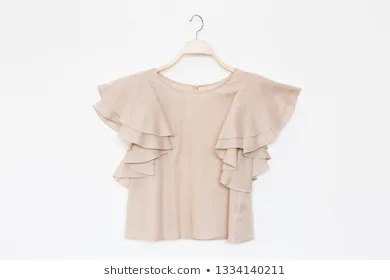C_short blouse: (90, 66, 313, 242)
